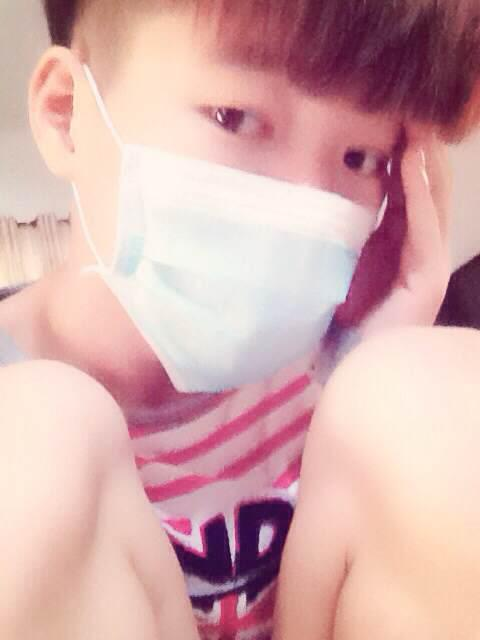OK: (100, 39, 401, 390)
